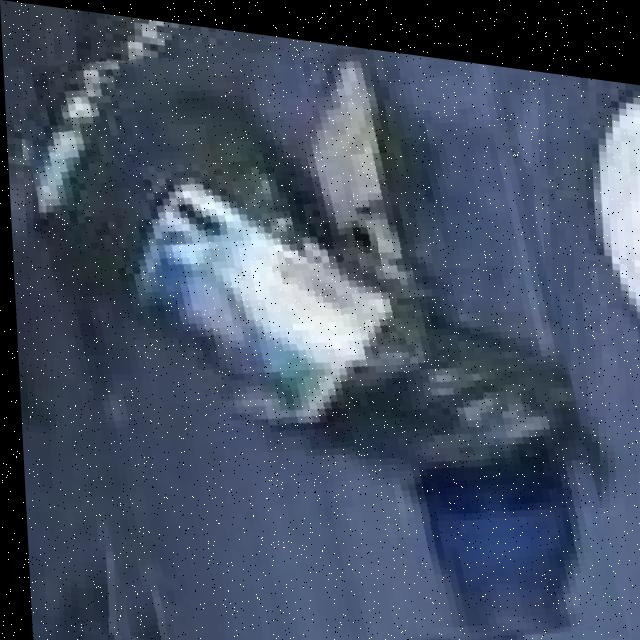litter: (28, 3, 601, 640)
